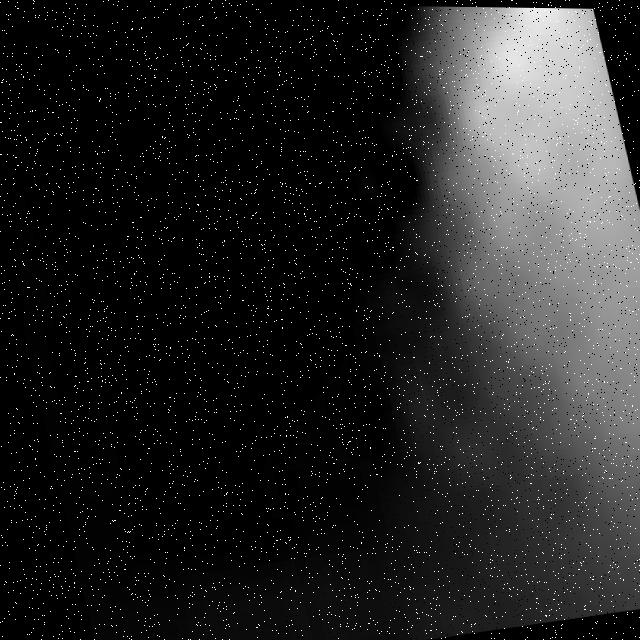person: (400, 6, 640, 623)
